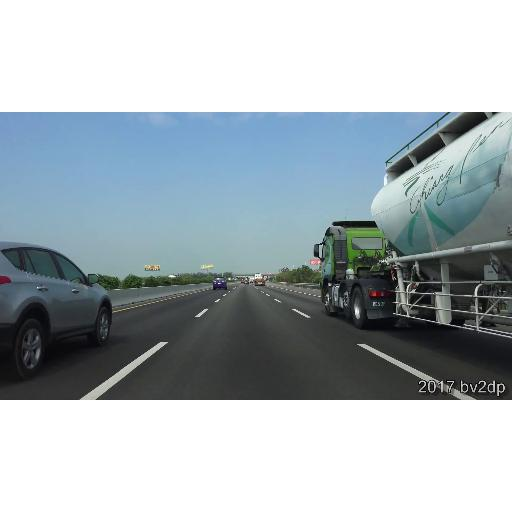Car: (320, 114, 512, 340), (0, 240, 112, 378), (213, 276, 227, 290), (254, 274, 266, 286), (244, 281, 248, 285)
